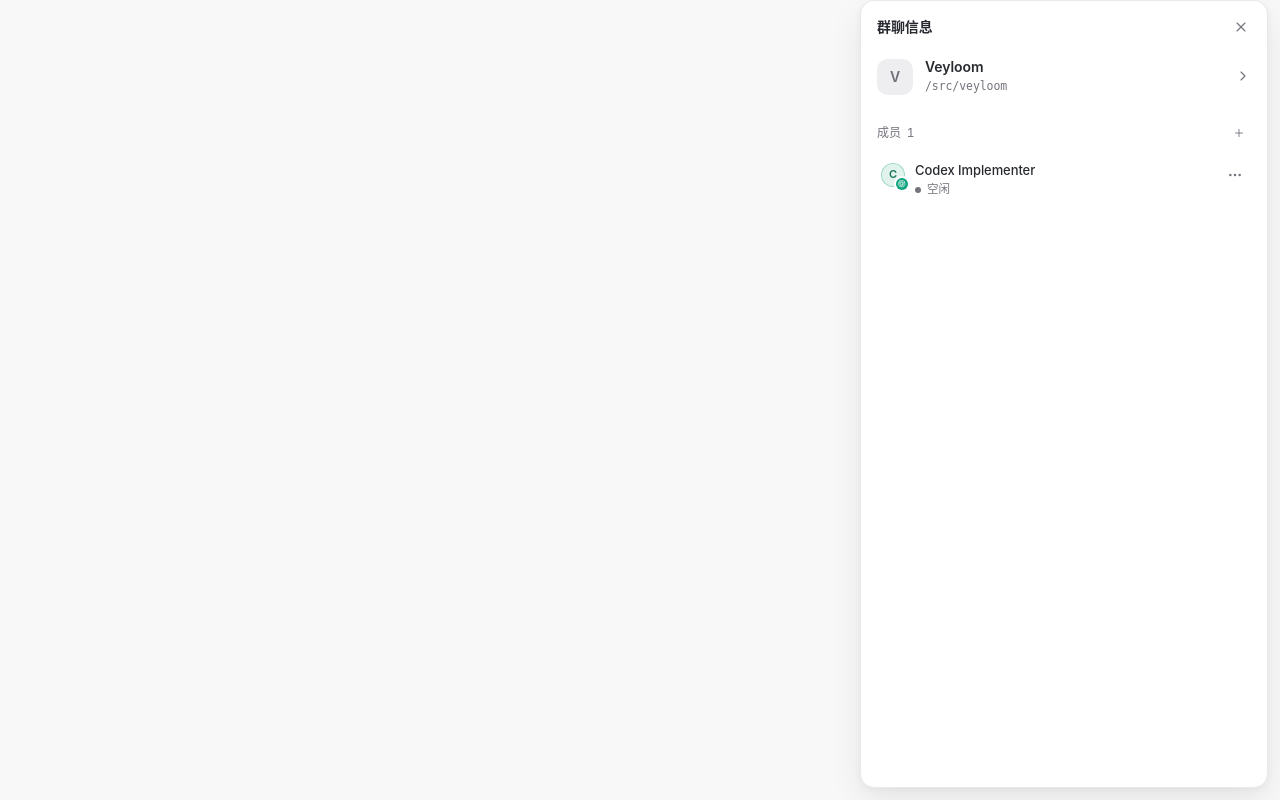
Scenario: MembersPanel › opens with the project the chat belongs to, then its members
Expected: the text "Veyloom" is shown, [925,57,983,77]
Expected: the text "/src/veyloom" is shown, [925,79,1007,93]
Note: The project card opens the project for editing.
Click the button with aria-label "编辑项目 Veyloom": (895, 77) [873,53,1255,99]
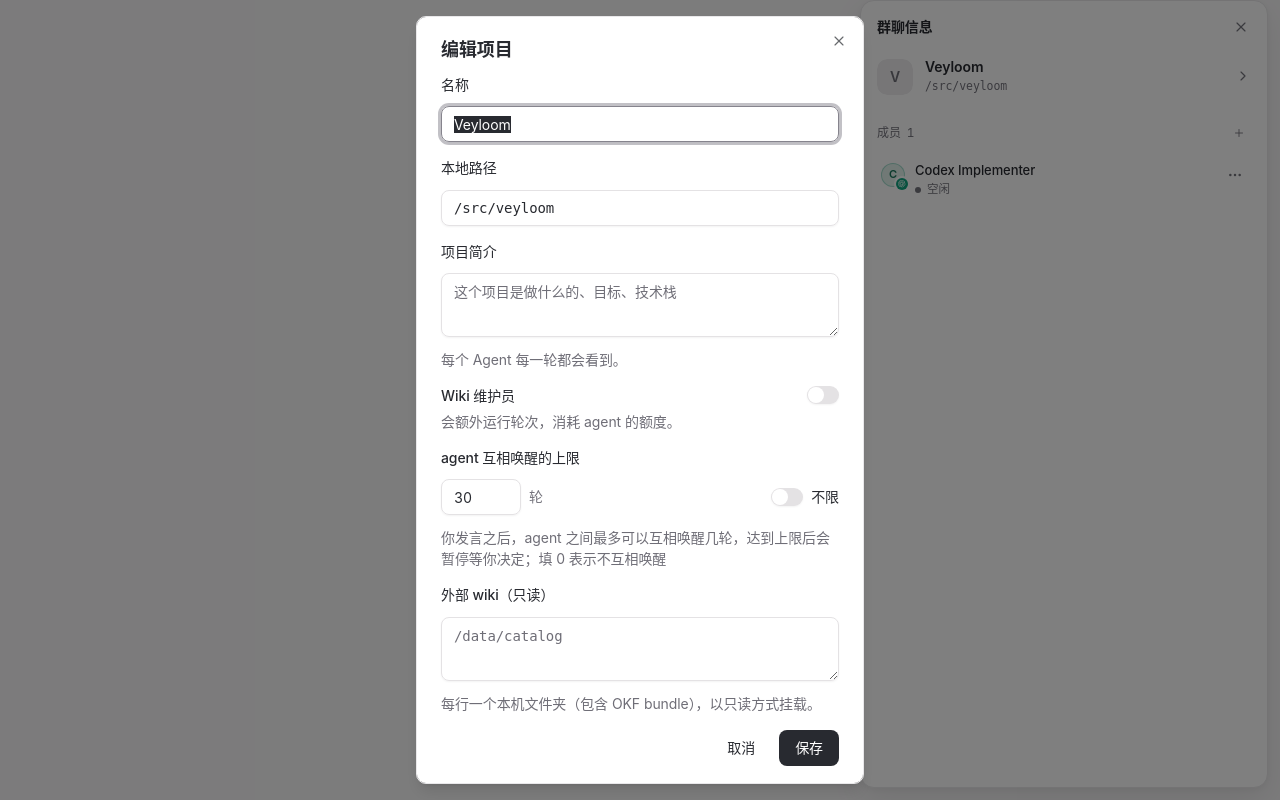
Result: the field labelled "本地路径" holds "/src/veyloom" at [441,190,839,226]
